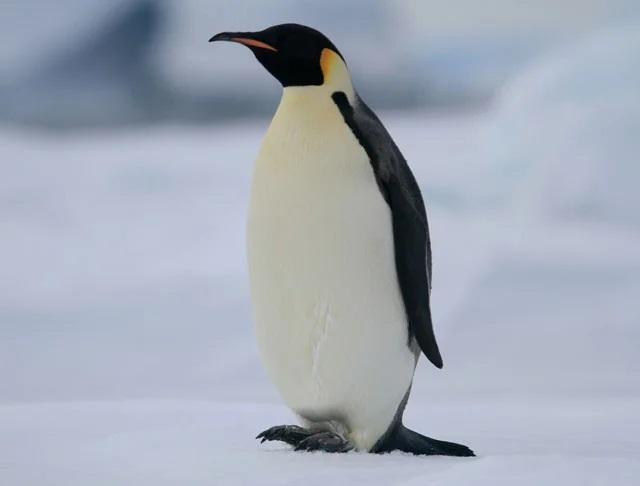emporer: (199, 17, 461, 467)
